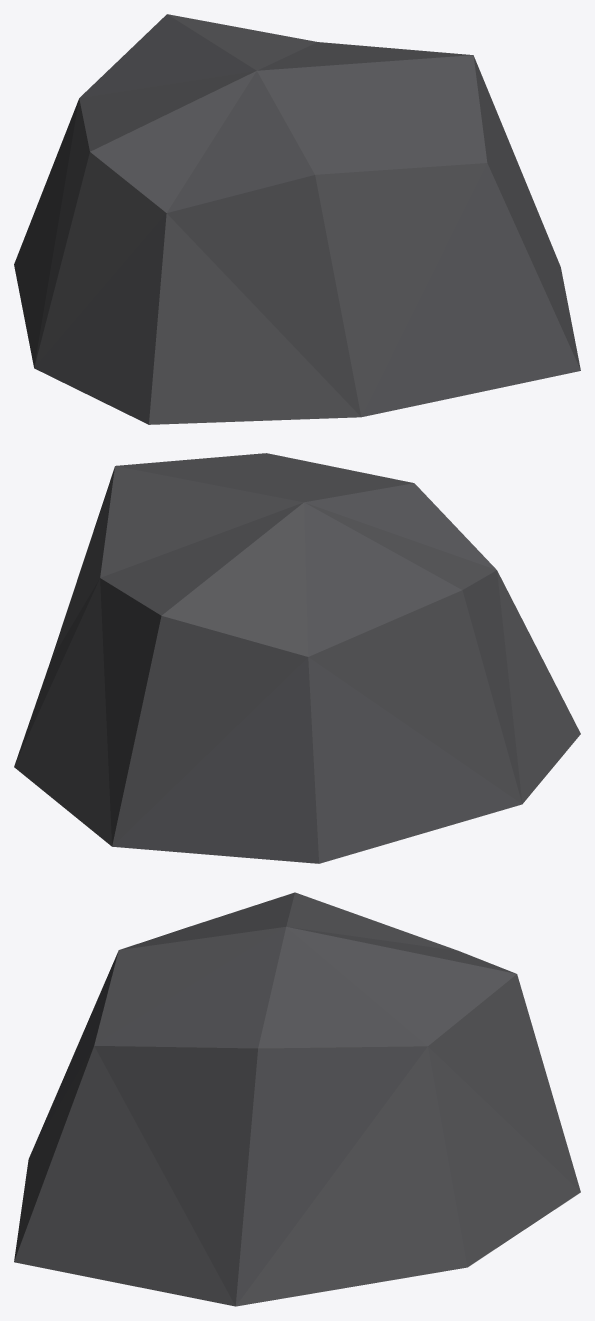
Rendered from pebble_a.glb.
3 renders of one model, top to bottom at view 1: azimuth 30°, elevation 25°; view 2: azimuth 150°, elevation 25°; view 3: azimuth 270°, elevation 25°, orthographic.
Parts seen in each view (by area): view 1: SM_Env_Pebble_01; view 2: SM_Env_Pebble_01; view 3: SM_Env_Pebble_01.
Boxes of the visible parts, left/top/right/bottom form: SM_Env_Pebble_01: left=14, top=14, right=580, bottom=424; SM_Env_Pebble_01: left=14, top=453, right=580, bottom=863; SM_Env_Pebble_01: left=14, top=892, right=580, bottom=1306.
Size of the model in its own units: 20.66 by 9.73 by 20.44.
1 material, 1 textured.
